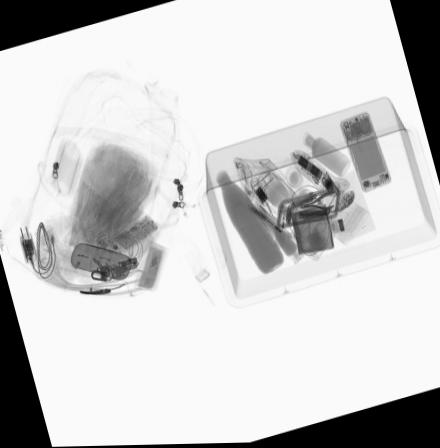Lighter: (274, 205, 291, 249)
